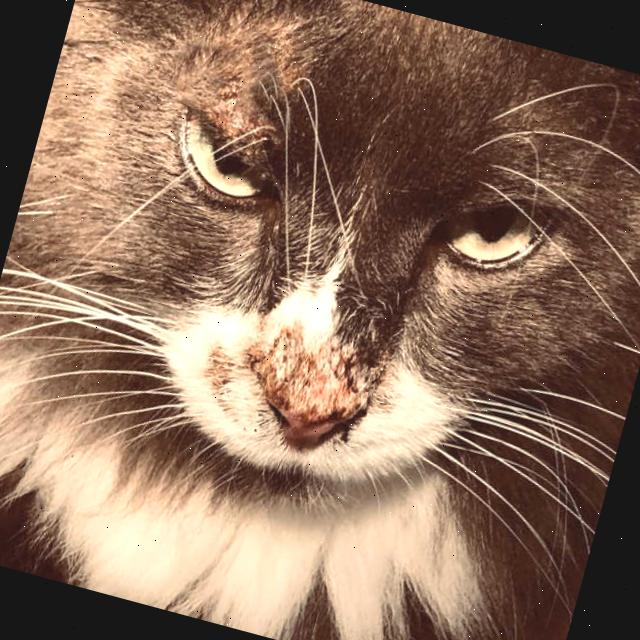cat-scabies: (267, 332, 373, 421)
